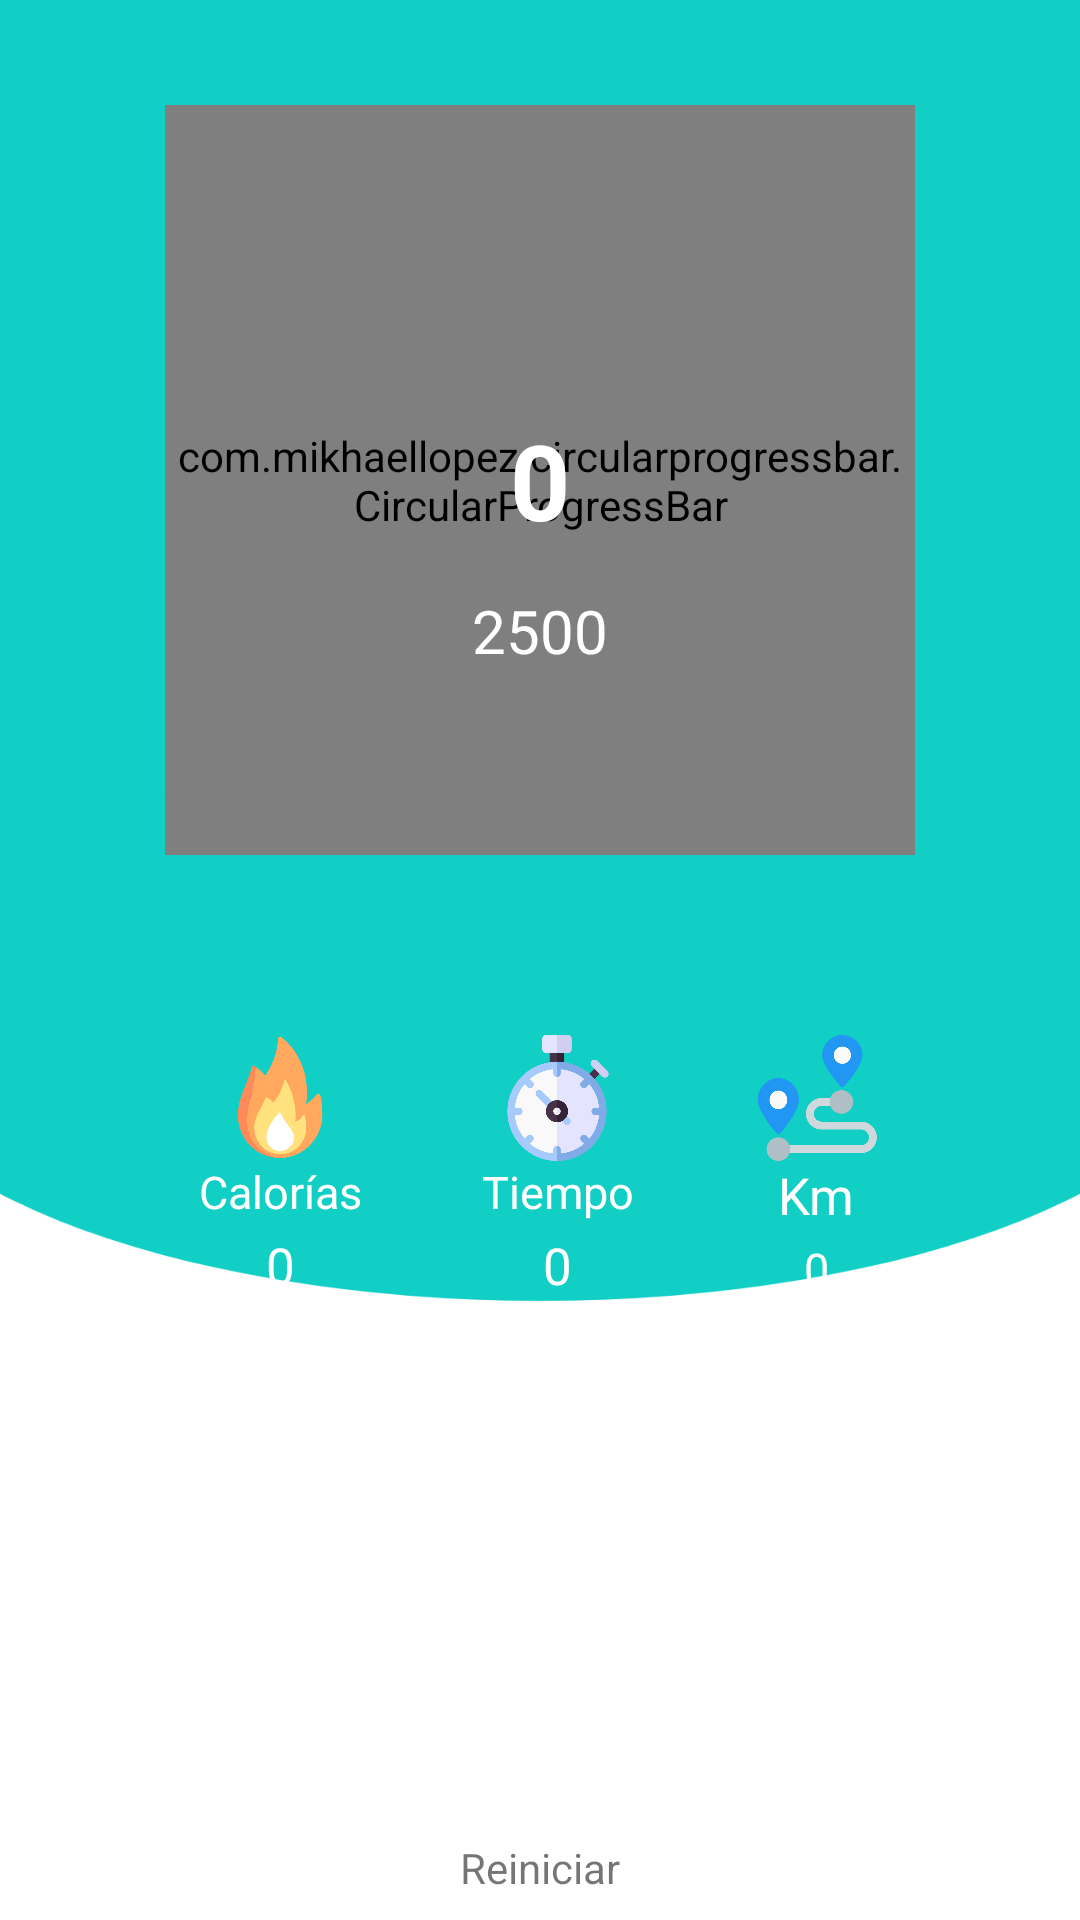

Locate icon controls on the screen. Image size 1080w x 1920h, boxes as (x1=x1, y1=y1, x2=x2, y2=y2).
cron: (x1=507, y1=1035, x2=609, y2=1161)
dist: (x1=758, y1=1035, x2=877, y2=1161)
fuego: (x1=238, y1=1036, x2=323, y2=1158)
